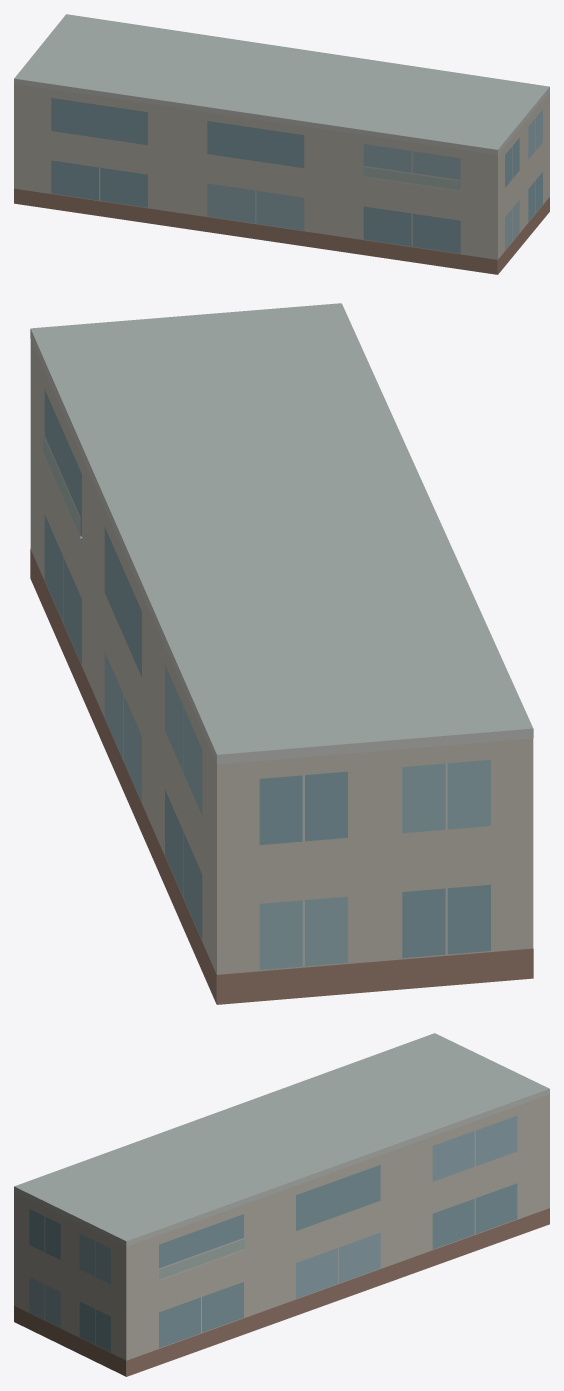
Rendered from survey-upis-32490273.glb.
The picture shows the model from 3 angles, top to bottom: view 1: azimuth 30°, elevation 25°; view 2: azimuth 150°, elevation 25°; view 3: azimuth 270°, elevation 25°; orthographic projection. The views are drawn at different scales.
Visible parts, largest first — view 1: survey-upis-32490273.tmp; view 2: survey-upis-32490273.tmp; view 3: survey-upis-32490273.tmp.
Part boxes in pixels (bbox=[...]): survey-upis-32490273.tmp: bbox=[14, 14, 549, 274]; survey-upis-32490273.tmp: bbox=[30, 303, 533, 1004]; survey-upis-32490273.tmp: bbox=[14, 1033, 549, 1376].
Size of the model in its own units: 20.11 by 6.1 by 21.86.
